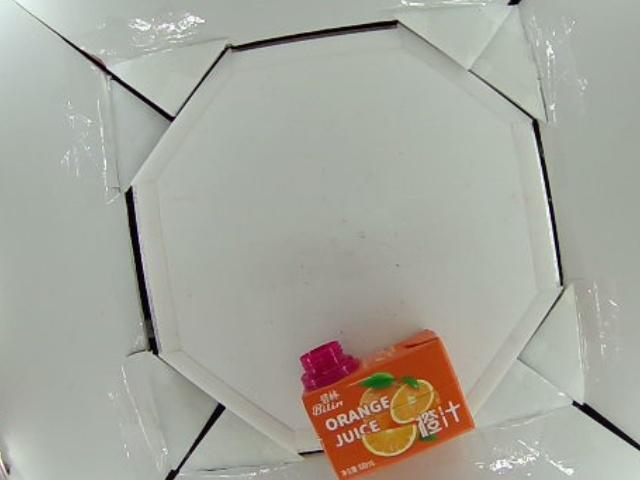Bottle: (297, 330, 480, 480)
